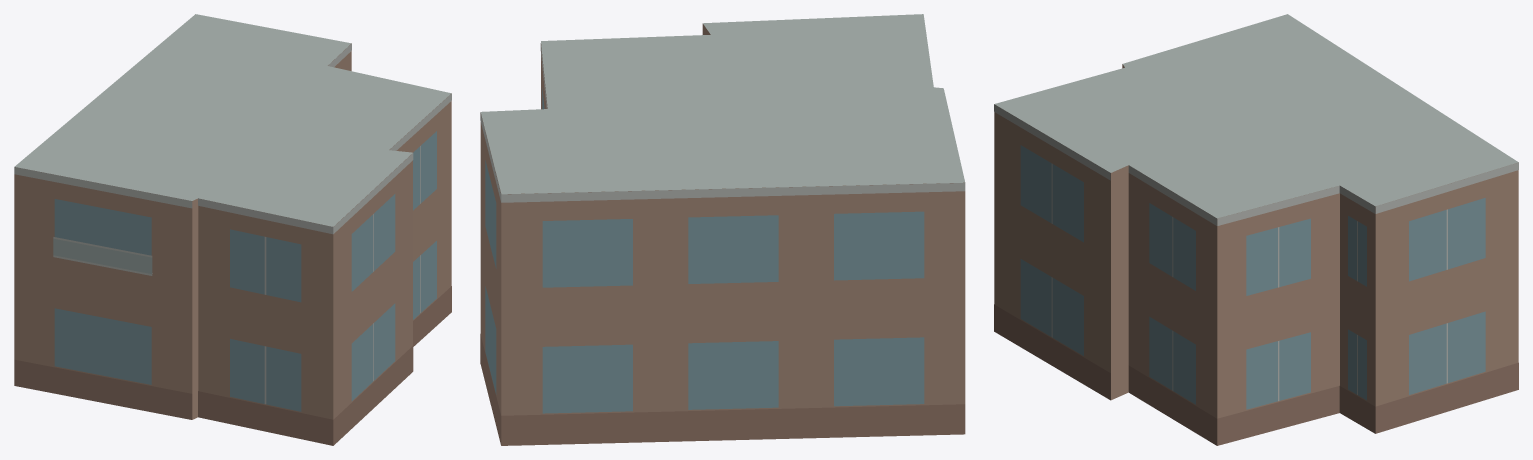
Rendered from survey-upis-32492823.glb.
3 renders of one model, left to right at view 1: azimuth 30°, elevation 25°; view 2: azimuth 150°, elevation 25°; view 3: azimuth 270°, elevation 25°, orthographic. The views are drawn at different scales.
Parts seen in each view (by area): view 1: survey-upis-32492823.tmp; view 2: survey-upis-32492823.tmp; view 3: survey-upis-32492823.tmp.
Part boxes in pixels (box(x1,y1,x2,y2)): survey-upis-32492823.tmp: box(14, 14, 451, 445); survey-upis-32492823.tmp: box(480, 14, 965, 445); survey-upis-32492823.tmp: box(994, 14, 1518, 445).
Size of the model in its own units: 13.89 by 7.2 by 15.06.
